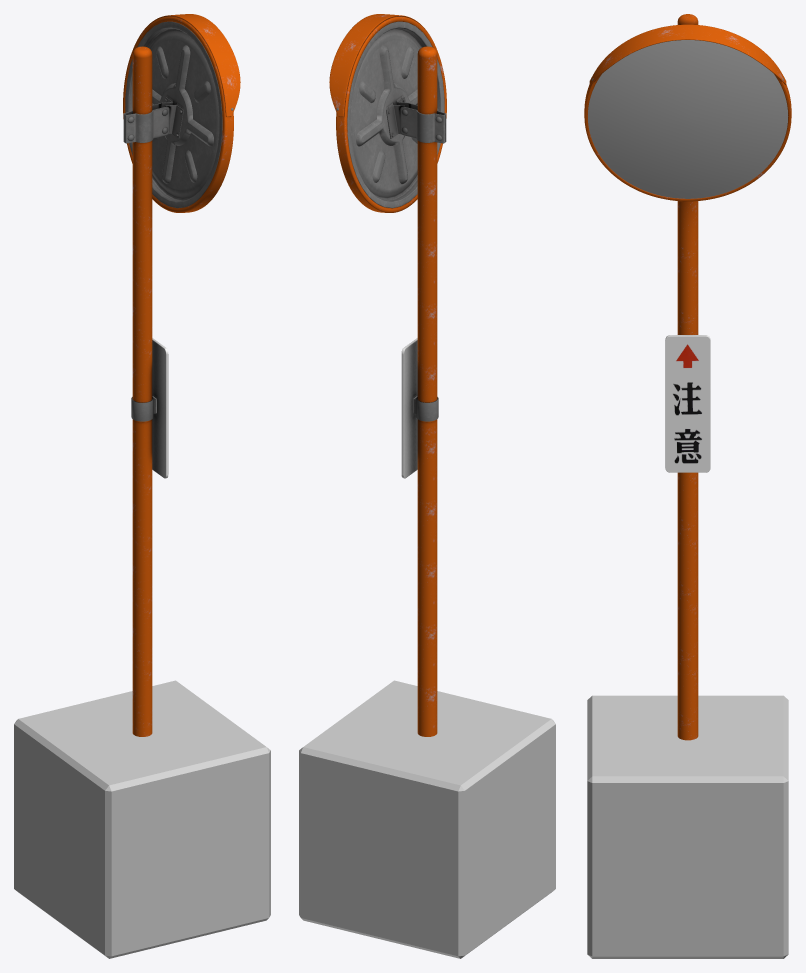
File: Preset_ConvexMirror.fbx
3 views of the same model, side by side, from view 1: azimuth 30°, elevation 25°; view 2: azimuth 150°, elevation 25°; view 3: azimuth 270°, elevation 25° (orthographic). The views are drawn at different scales.
Parts seen in each view (by area): view 1: ConcreteBase, Pole, Backside, Frame, Supplementary_Sign, Bracket_MainBody; view 2: ConcreteBase, Pole, Backside, Frame, Supplementary_Sign, Bracket_MainBody; view 3: ConcreteBase, Mirror, Pole, Supplementary_Sign, Frame.
Part boxes in pixels (left/top/right/bottom): ConcreteBase: left=14, top=680, right=270, bottom=958; Pole: left=132, top=46, right=152, bottom=736; Backside: left=125, top=21, right=222, bottom=208; Frame: left=123, top=14, right=240, bottom=212; Supplementary_Sign: left=152, top=338, right=168, bottom=478; Bracket_MainBody: left=123, top=97, right=183, bottom=143; ConcreteBase: left=299, top=680, right=555, bottom=958; Pole: left=417, top=46, right=437, bottom=736; Backside: left=347, top=21, right=444, bottom=208; Frame: left=329, top=14, right=446, bottom=212; Supplementary_Sign: left=401, top=338, right=417, bottom=478; Bracket_MainBody: left=386, top=97, right=446, bottom=143; ConcreteBase: left=587, top=695, right=788, bottom=958; Mirror: left=588, top=40, right=788, bottom=198; Pole: left=677, top=14, right=698, bottom=740; Supplementary_Sign: left=665, top=335, right=710, bottom=472; Frame: left=584, top=24, right=791, bottom=201.
Size of the model in its own units: 80 by 82.31 by 402.
Materials: 6 (4 with a texture image).
